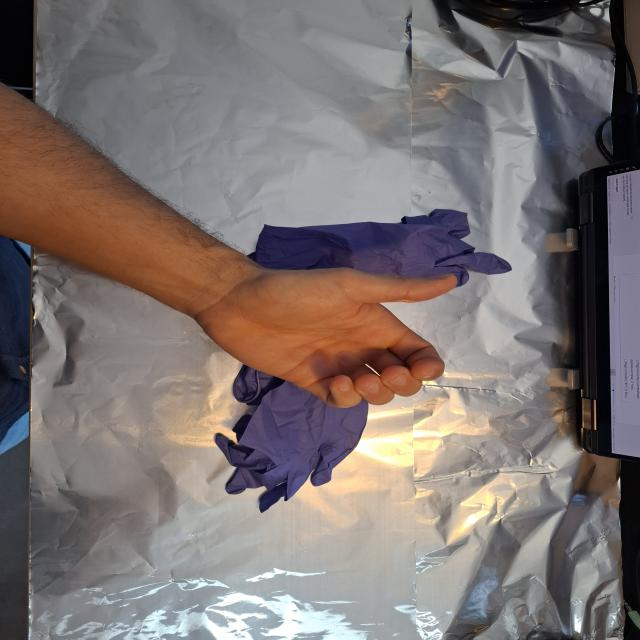glove_off: (192, 266, 460, 410)
